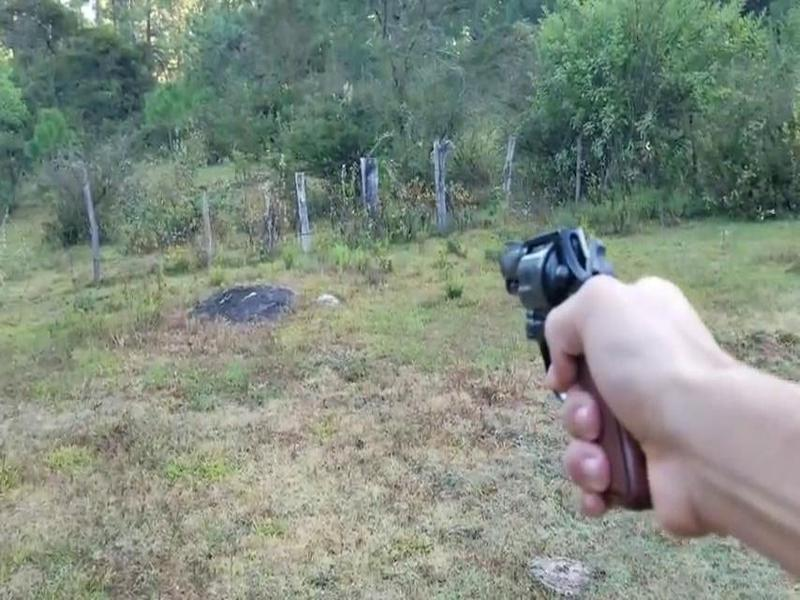Revolver: (492, 214, 637, 477)
